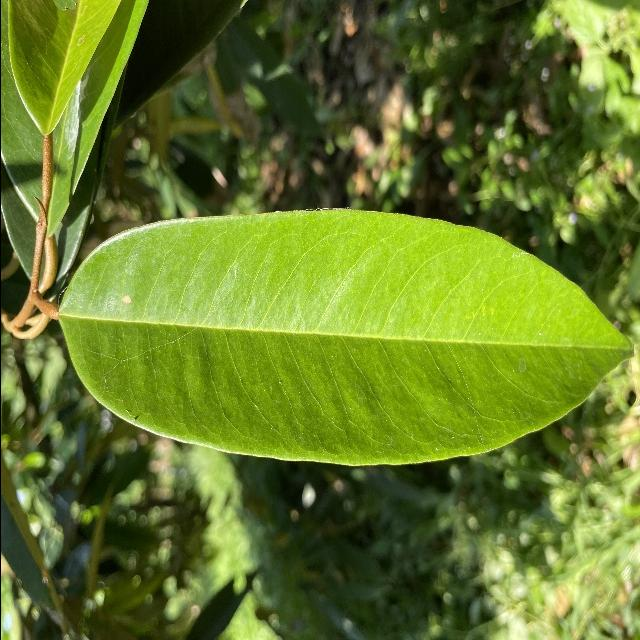No Disease: (49, 203, 640, 475)
